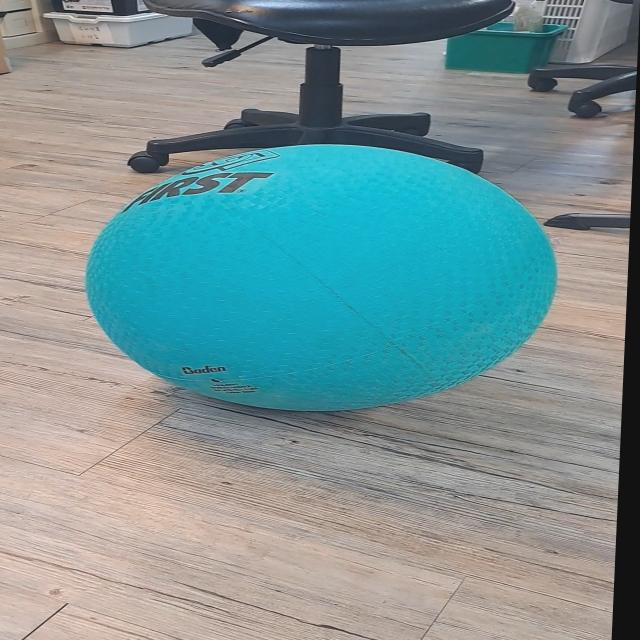ALGAE: (76, 142, 564, 413)
